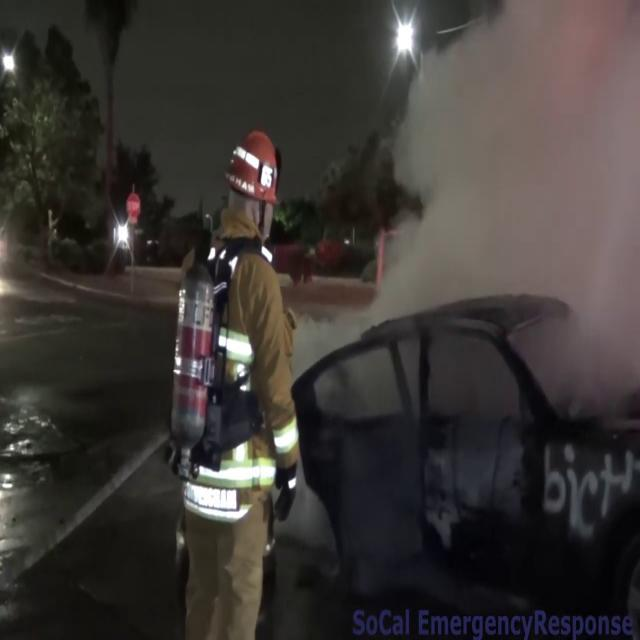Smoke: (368, 0, 640, 368)
